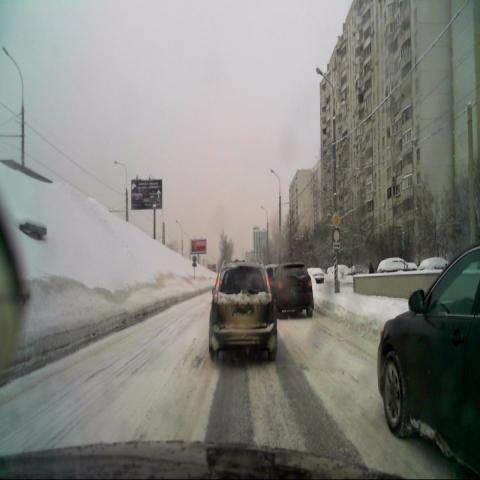2_1: (332, 211, 342, 228)
3_2: (333, 228, 340, 241)
